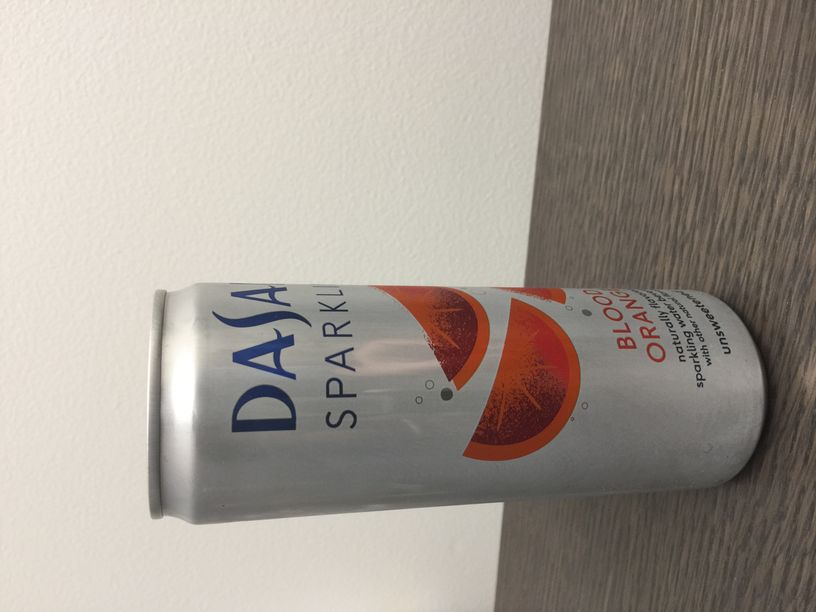orange: (358, 286, 668, 479)
